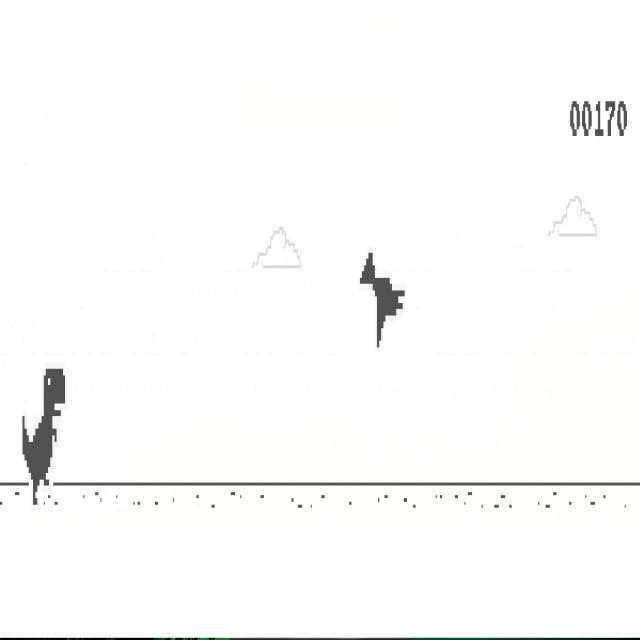dino: (22, 368, 66, 506)
ptero: (360, 250, 406, 349)
